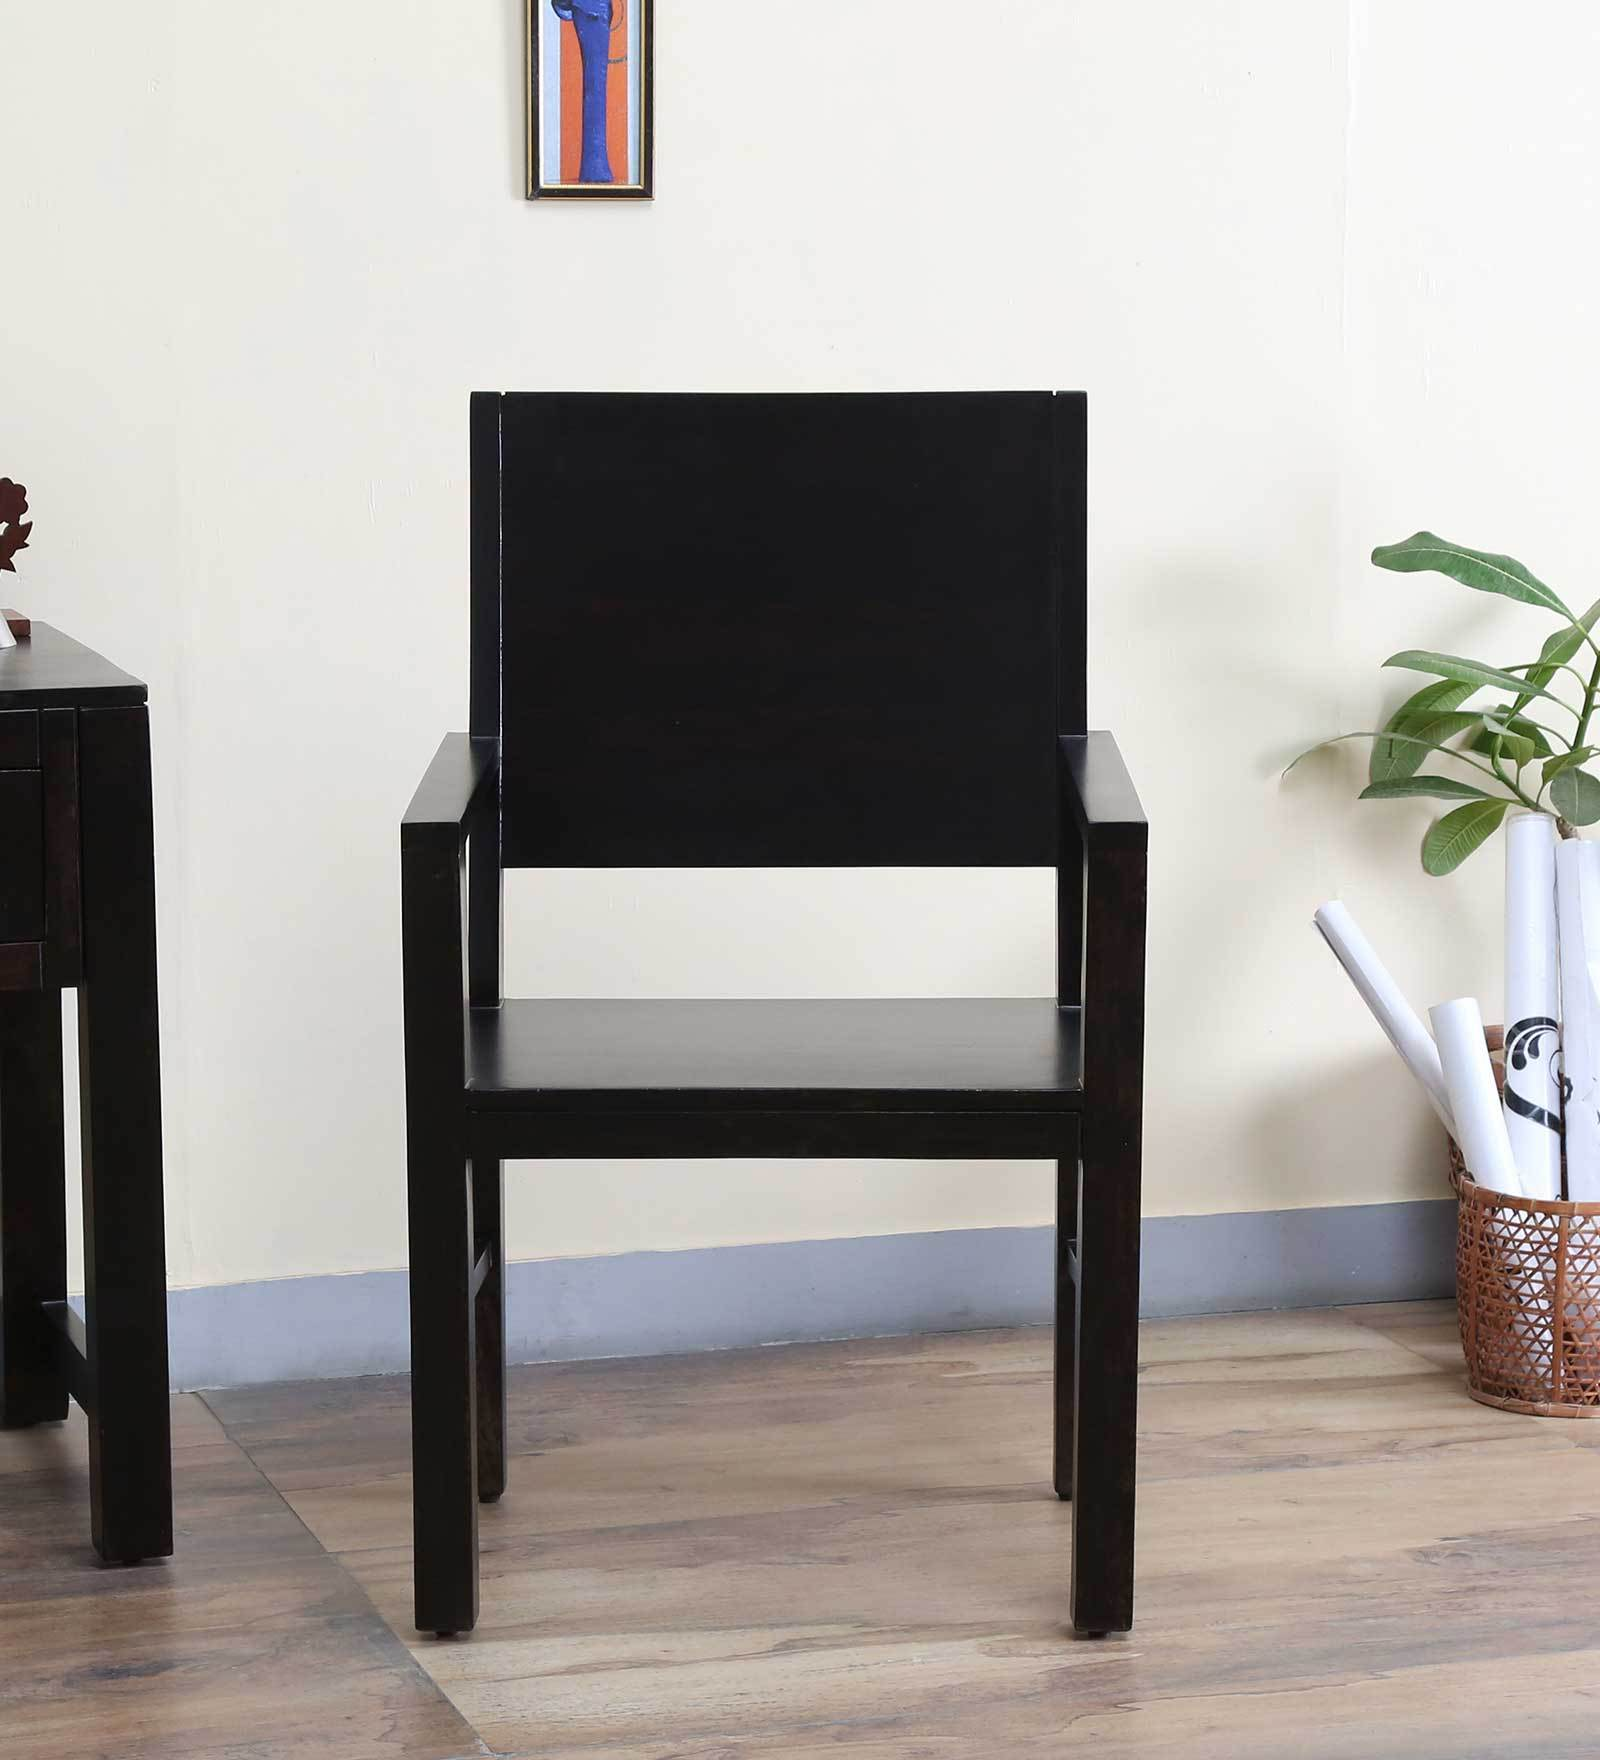Oriel Arm Chair in Warm Chestnut Finish by Woodsworth: (388, 376, 1157, 1634)
